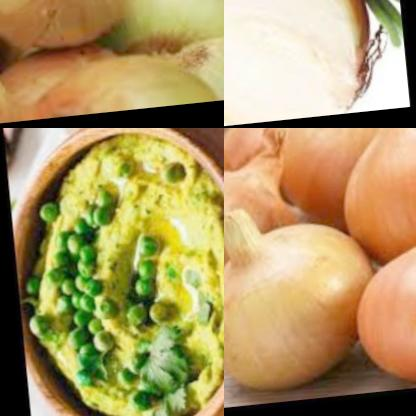onion: (224, 191, 369, 392), (0, 0, 224, 128), (224, 0, 379, 128), (337, 156, 416, 386), (224, 128, 309, 299), (329, 128, 416, 256)
peas: (45, 226, 120, 385), (125, 232, 162, 314), (102, 366, 146, 416), (79, 184, 115, 241), (109, 298, 150, 343), (134, 298, 171, 347), (18, 309, 52, 350), (151, 162, 184, 200), (117, 359, 148, 389), (108, 166, 137, 191), (15, 277, 38, 305), (30, 197, 46, 225)
